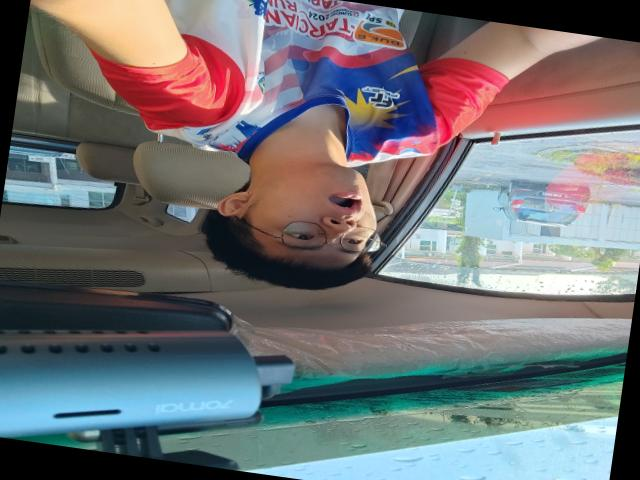eye_open: (262, 155, 388, 269), (283, 228, 318, 246), (342, 236, 369, 248)
mouth_open: (324, 188, 371, 218)
